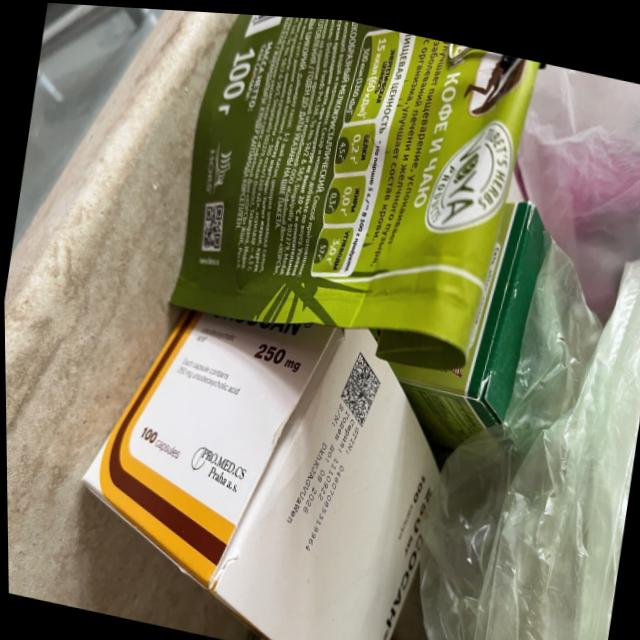datamatrix: (333, 346, 386, 430)
qrcode: (197, 197, 228, 255)
